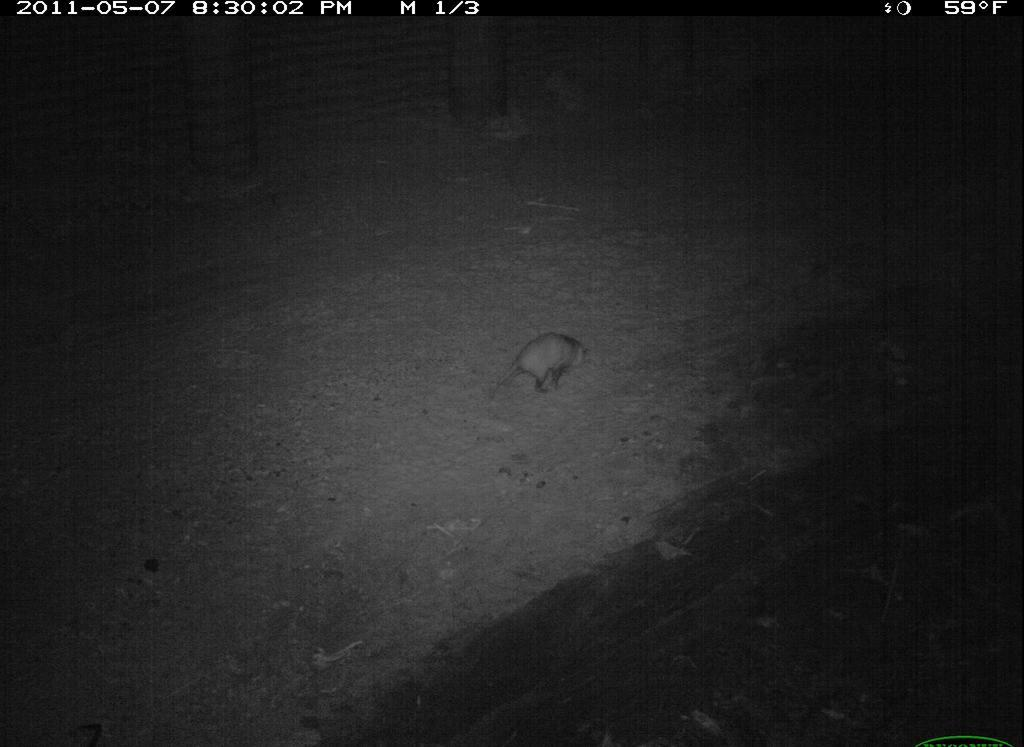opossum: (481, 331, 600, 409)
